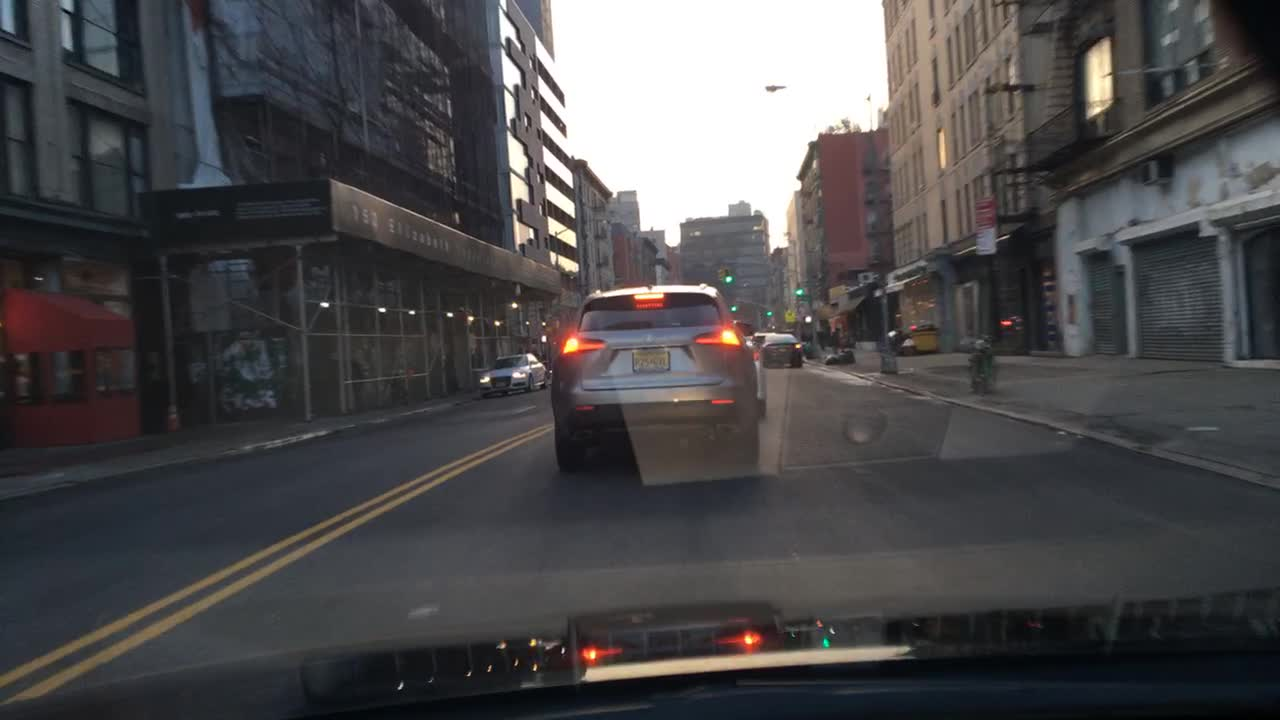car: (550, 282, 757, 475), (475, 353, 549, 399), (742, 335, 767, 414), (760, 331, 803, 366), (733, 319, 754, 335), (748, 331, 766, 349)
motor: (957, 332, 996, 398)
person: (829, 325, 841, 352)
traffic light: (720, 264, 732, 284), (792, 278, 803, 295), (728, 301, 737, 313)
